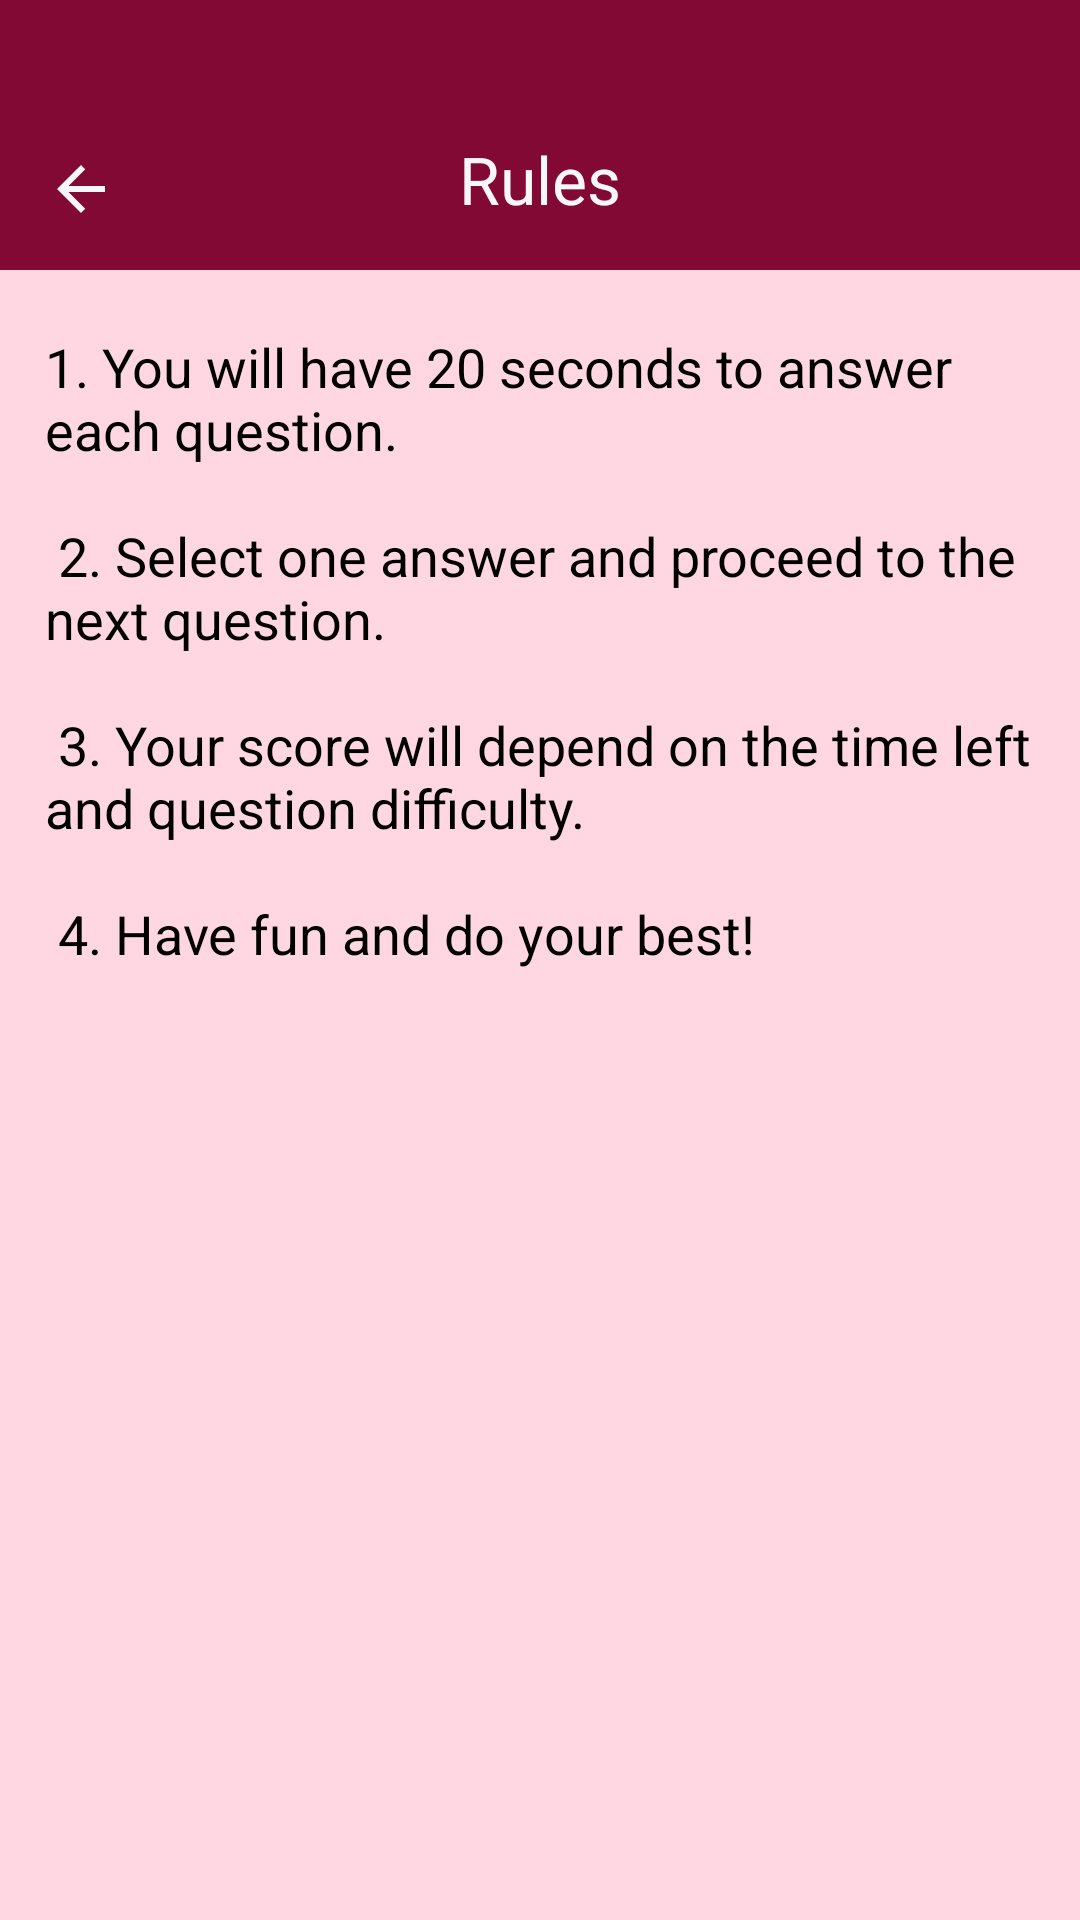

Screen size 1080×1920. Icon name, then its box in pixels as (x1, y1, x2, y2):
arrow back: (57, 165, 105, 213)
